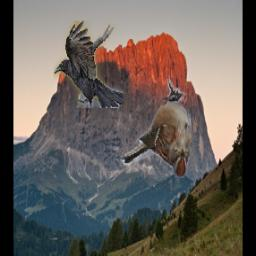Crow: (54, 21, 124, 108)
Sparrow: (120, 75, 192, 180)
